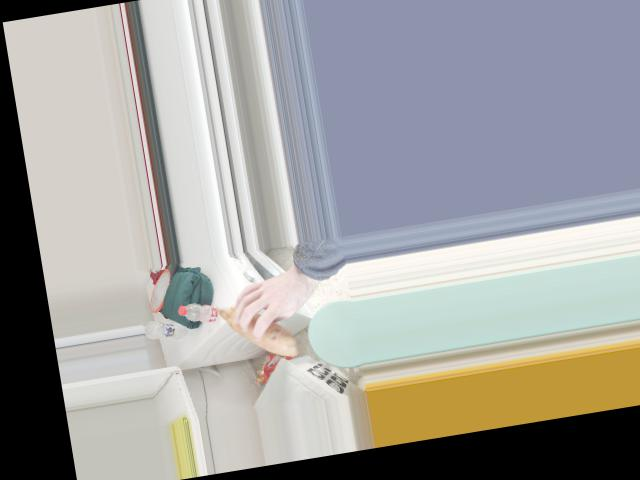sweet_potato: (218, 283, 289, 363)
